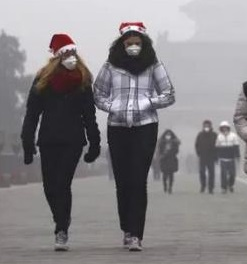person: (92, 20, 177, 251), (21, 31, 101, 252), (193, 119, 220, 196), (215, 120, 242, 195), (156, 129, 183, 195), (233, 80, 247, 176), (179, 152, 199, 173), (105, 146, 115, 182), (152, 152, 162, 181)
